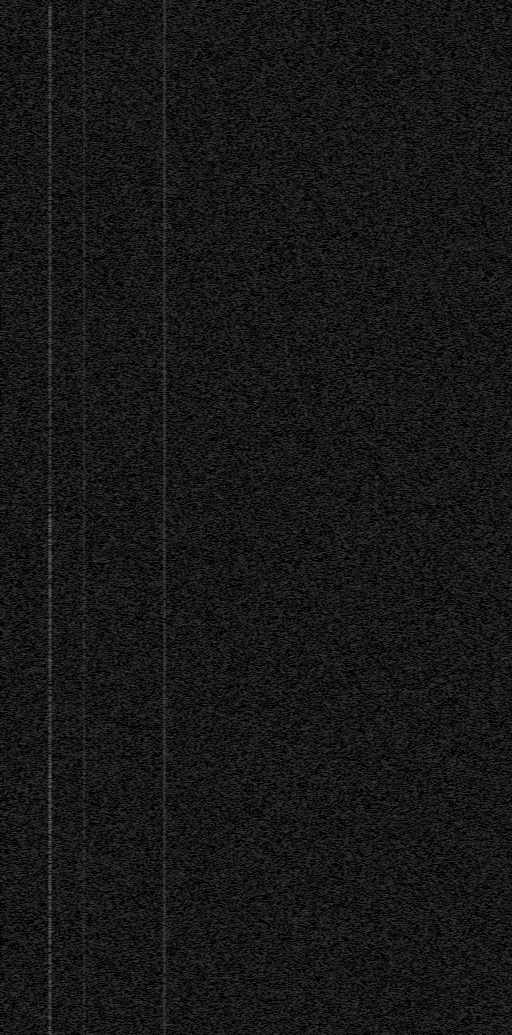wv_am: (82, 0, 87, 1035)
wv_cw: (162, 0, 167, 1035)
wv_lsb: (47, 3, 53, 965), (47, 966, 53, 1035)
